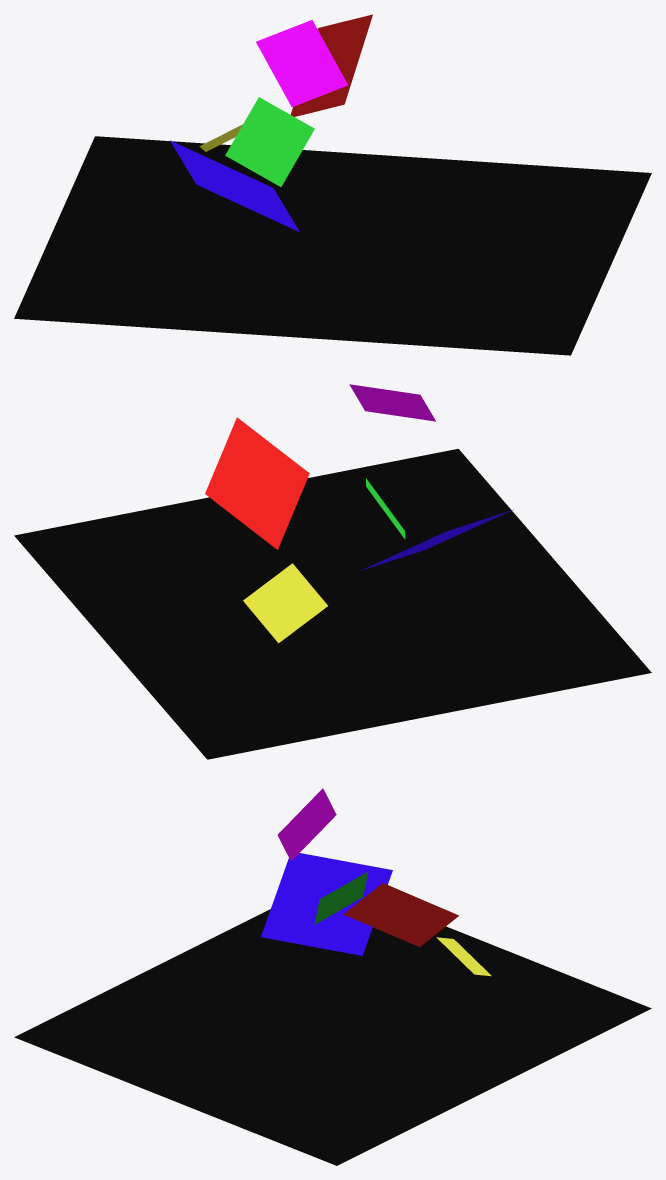
File: Grosse_flaeche_Quadrat.glb
3 views of the same model, one above another, from view 1: azimuth 30°, elevation 25°; view 2: azimuth 150°, elevation 25°; view 3: azimuth 270°, elevation 25° (orthographic). The views are drawn at different scales.
Parts seen in each view (by area): view 1: p.0015, p.0038, p.0039, p.0036, p.0037; view 2: p.0015, p.0037, p.0035, p.0038, p.0036; view 3: p.0015, p.0036, p.0037, p.0038, p.0039, p.0035.
Boxes of the visible parts, x1,y1,x2,y2 form: p.0015: (14,136,651,355); p.0038: (256,20,347,106); p.0039: (225,97,314,186); p.0036: (170,140,299,231); p.0037: (290,14,372,116); p.0015: (14,448,651,759); p.0037: (205,417,309,549); p.0035: (243,563,327,643); p.0038: (349,384,435,421); p.0036: (360,509,513,570); p.0015: (14,909,651,1165); p.0036: (261,853,392,955); p.0037: (343,883,458,946); p.0038: (277,788,336,861); p.0039: (314,872,367,924); p.0035: (436,937,491,976).
Bounding box in the file's own units: 0.9761 × 0.3479 × 0.9613.
